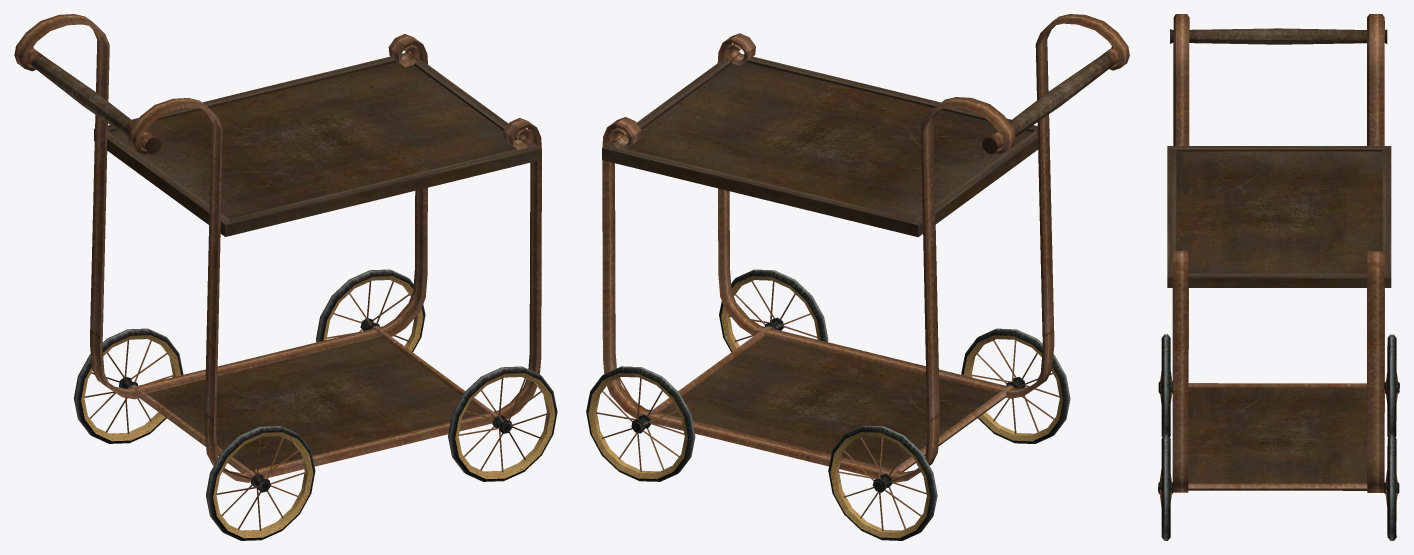
Rendered from handcart.glb.
3 renders of one model, left to right at view 1: azimuth 30°, elevation 25°; view 2: azimuth 150°, elevation 25°; view 3: azimuth 270°, elevation 25°, orthographic. The views are drawn at different scales.
Parts seen in each view (by area): view 1: handcart; view 2: handcart; view 3: handcart.
Part boxes in pixels (box(x1,y1,x2,y2)): handcart: box(14, 14, 557, 540); handcart: box(586, 14, 1129, 540); handcart: box(1158, 14, 1399, 540).
Size of the model in its own units: 1.09 by 1.12 by 0.6412.
Materials: 1 (1 with a texture image).
